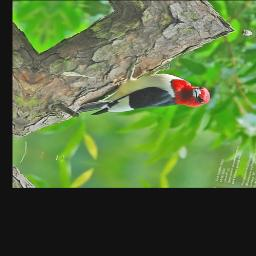Woodpecker: (75, 51, 218, 137)
